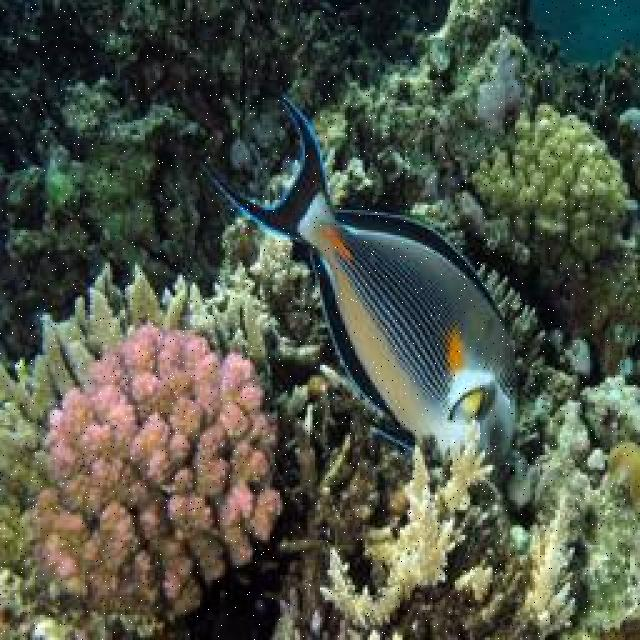fish: (200, 90, 519, 466)
reefs: (0, 236, 361, 450), (31, 326, 282, 618), (320, 418, 495, 629), (477, 101, 627, 262)
